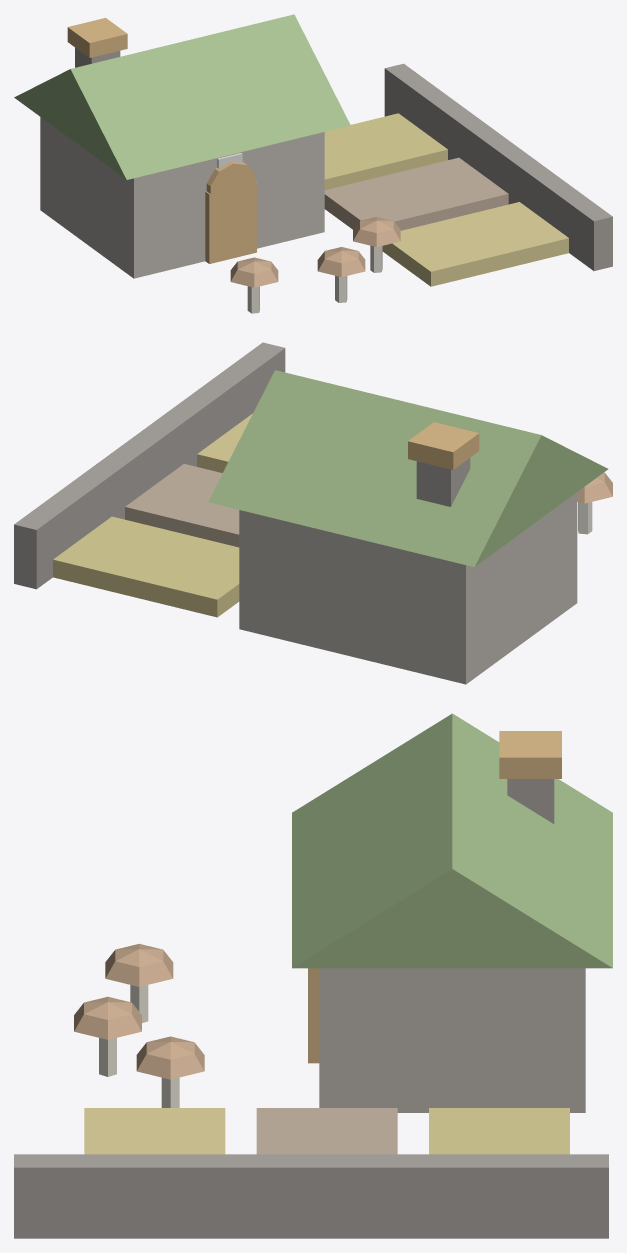
The picture shows the model from 3 angles, top to bottom: view 1: azimuth 30°, elevation 25°; view 2: azimuth 150°, elevation 25°; view 3: azimuth 270°, elevation 25°; orthographic projection. The views are drawn at different scales.
Parts seen in each view (by area): view 1: body; view 2: body; view 3: body.
Boxes of the visible parts, x1,y1,x2,y2 form: body: (14, 14, 612, 313); body: (14, 342, 612, 684); body: (14, 713, 612, 1238).
Bounding box in the file's own units: 8.15 × 3.7 × 7.65.
